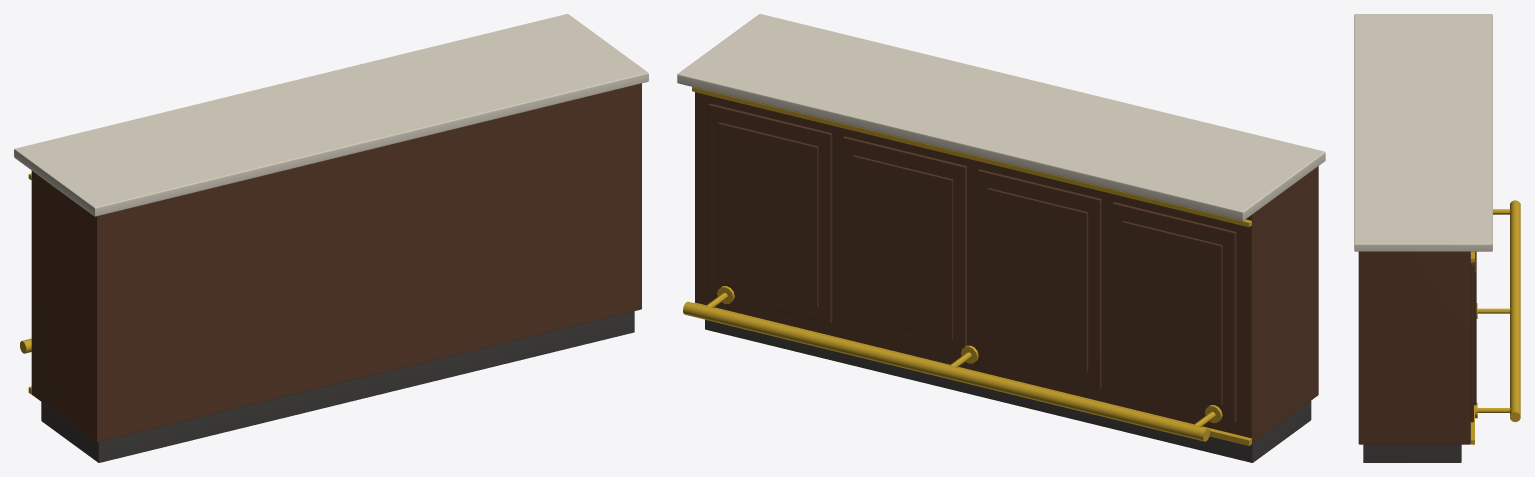
The model's file is prop_bar_counter.glb.
The picture shows the model from 3 angles, left to right: view 1: azimuth 30°, elevation 25°; view 2: azimuth 150°, elevation 25°; view 3: azimuth 270°, elevation 25°; orthographic projection. The views are drawn at different scales.
Parts seen in each view (by area): view 1: Bar; view 2: Bar; view 3: Bar.
Part boxes in pixels (x1,y1,x2,y2): Bar: [14, 14, 648, 462]; Bar: [677, 14, 1325, 462]; Bar: [1354, 14, 1520, 462].
Size of what is drawn, in the model's own units: 2.44 by 1.1 by 0.7444.
